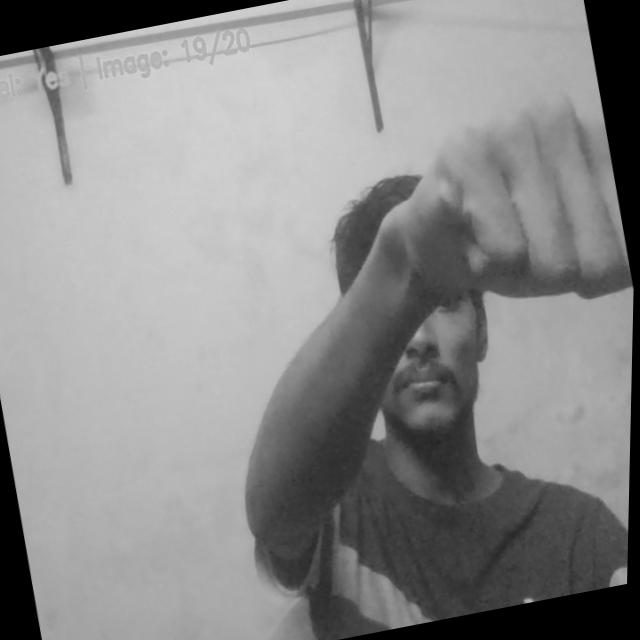Yes: (409, 84, 633, 306)
